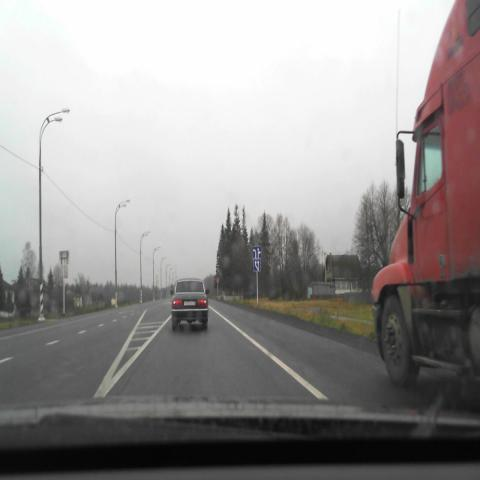5_15_2_2: (252, 246, 261, 259)
